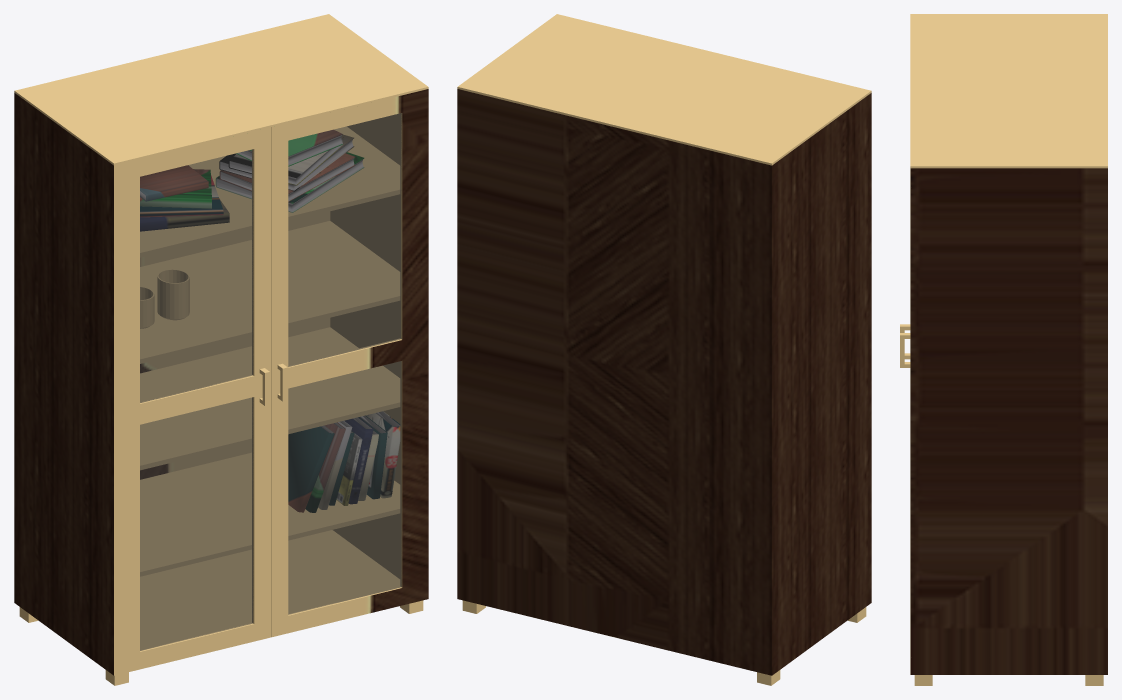
Rendered from aia display stand 02 .fbx.
3 renders of one model, left to right at view 1: azimuth 30°, elevation 25°; view 2: azimuth 150°, elevation 25°; view 3: azimuth 270°, elevation 25°, orthographic.
Visible parts, largest first — view 1: Aia Display Stand.001; view 2: Aia Display Stand.001; view 3: Aia Display Stand.001.
Boxes of the visible parts, x1,y1,x2,y2 form: Aia Display Stand.001: (14, 14, 428, 685); Aia Display Stand.001: (457, 14, 871, 685); Aia Display Stand.001: (900, 14, 1107, 685).
Size of the model in its own units: 1.23 by 1.97 by 0.7112.
